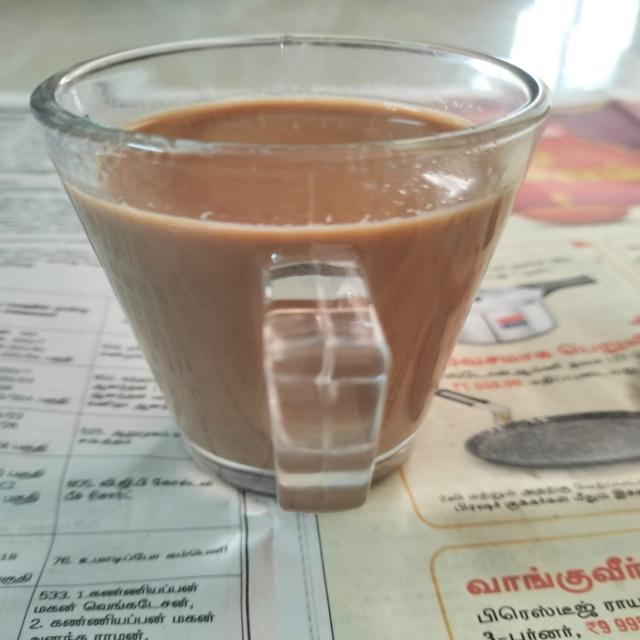glass-VX4N: (33, 29, 570, 516)
